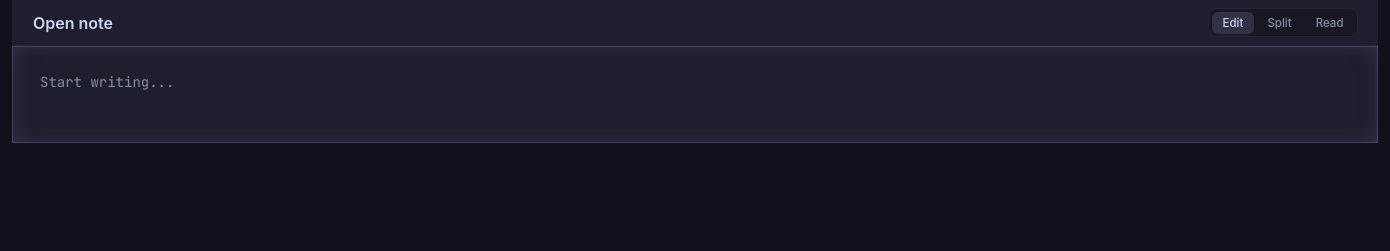
Scenario: Link autocomplete (#548) › inserts the clicked result
This screenshot has width=1390, height=251.
Type "x [ [" into the text box with class "editor-textarea" at (695, 94), box [12,46,1378,143]
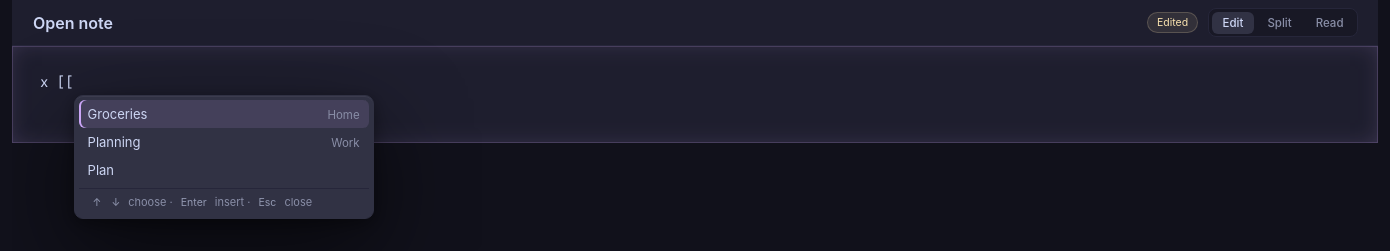
Press the mouse on the option "Plan" at (101, 170), box [88,162,114,178]
Click the option "Plan" at (101, 170), box [88,162,114,178]
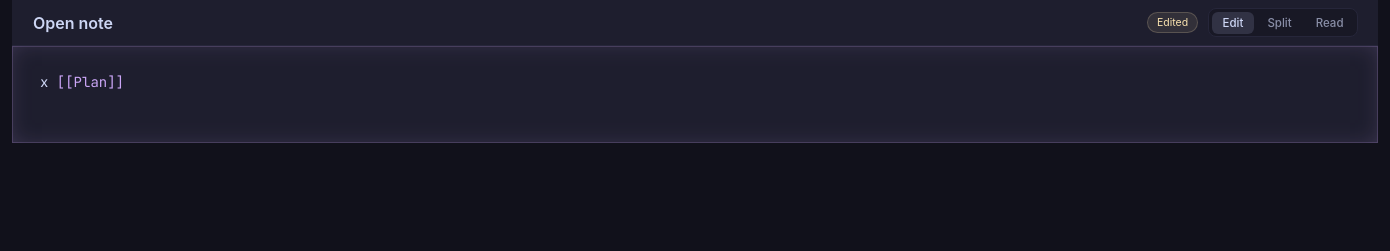
Check: the text box with class "editor-textarea" holds "x [ [Plan]]", box [12,46,1378,143]
Check: the list is gone
